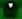black: (0, 0, 22, 19)
